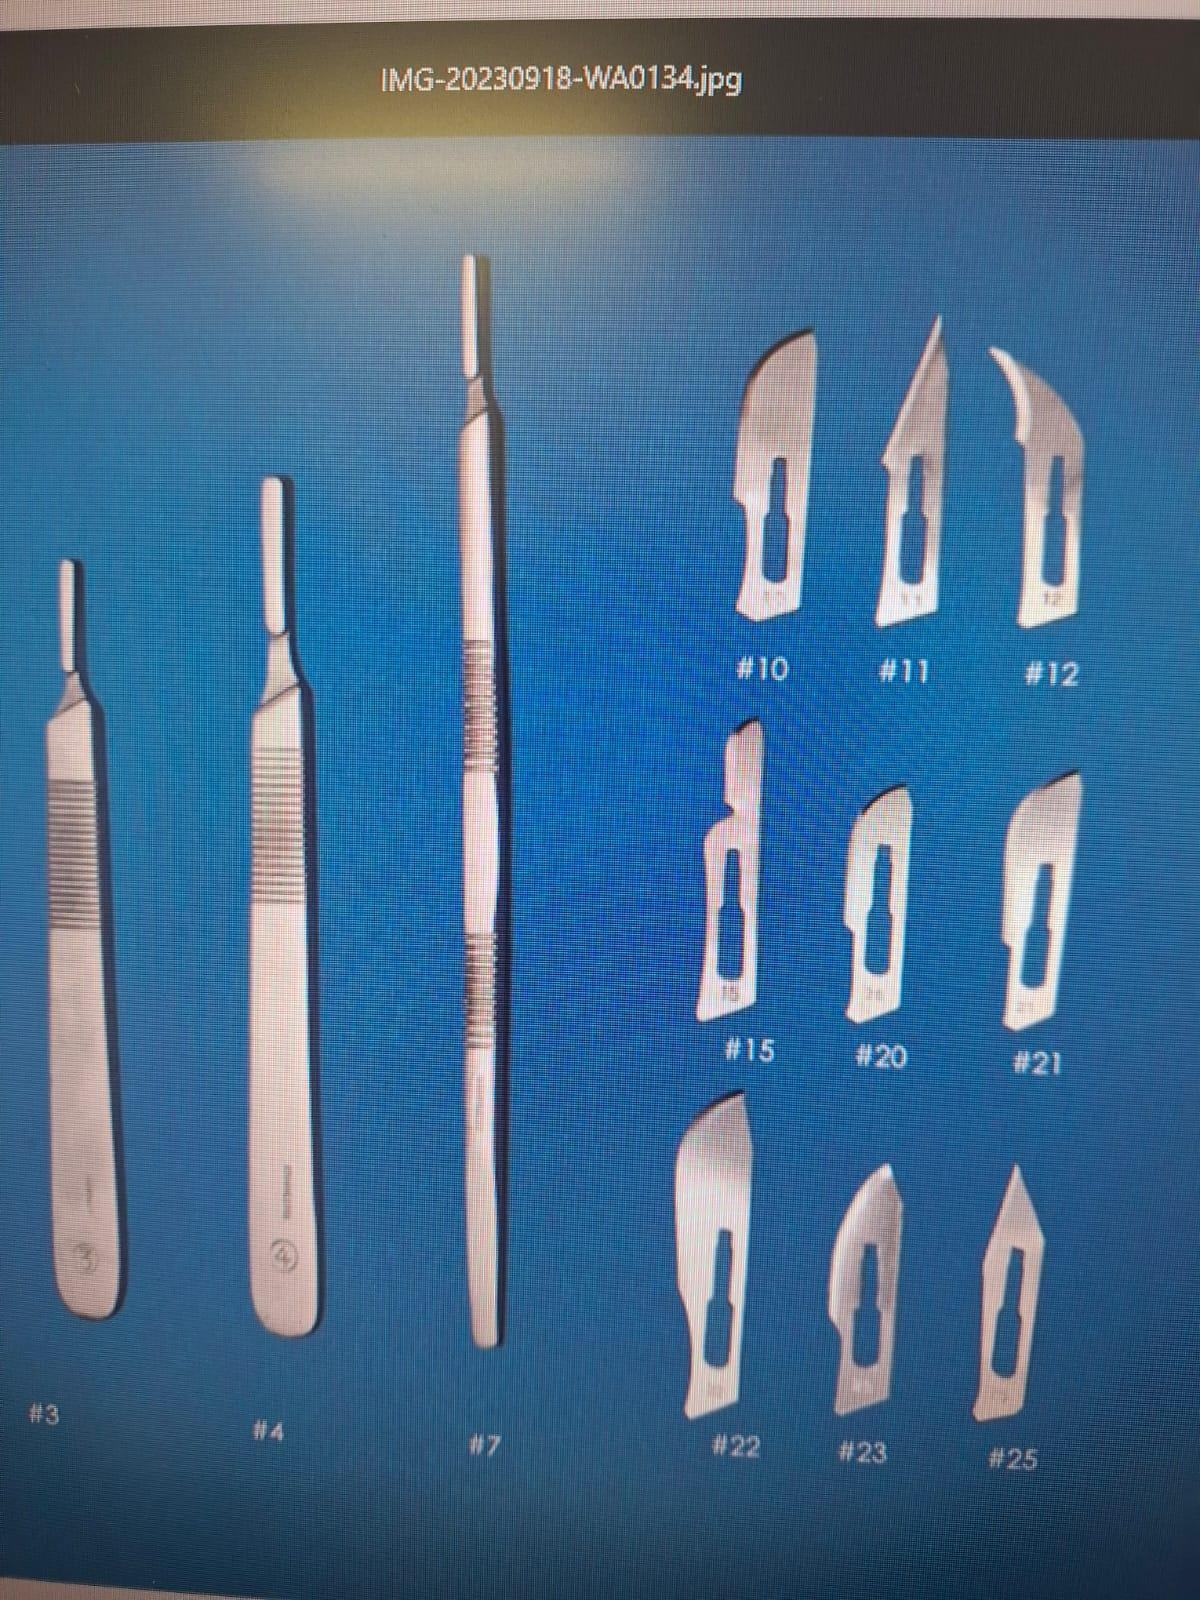Knife Blade: (692, 297, 829, 643), (966, 353, 1127, 640), (643, 1080, 770, 1417), (979, 757, 1105, 1070), (938, 1150, 1078, 1430), (857, 295, 955, 640), (832, 767, 943, 1065), (805, 1145, 920, 1427)
Knife Handle: (227, 455, 338, 1361), (30, 528, 150, 1335)
